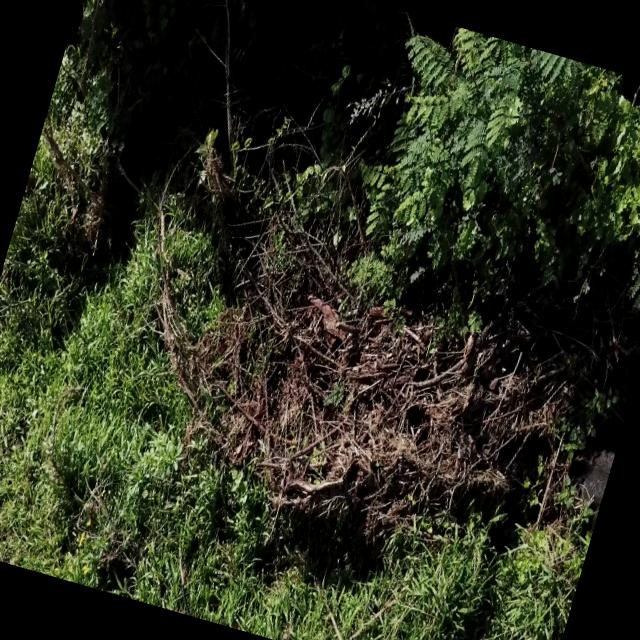Mysore-Thorn-Weed: (340, 13, 620, 322)
